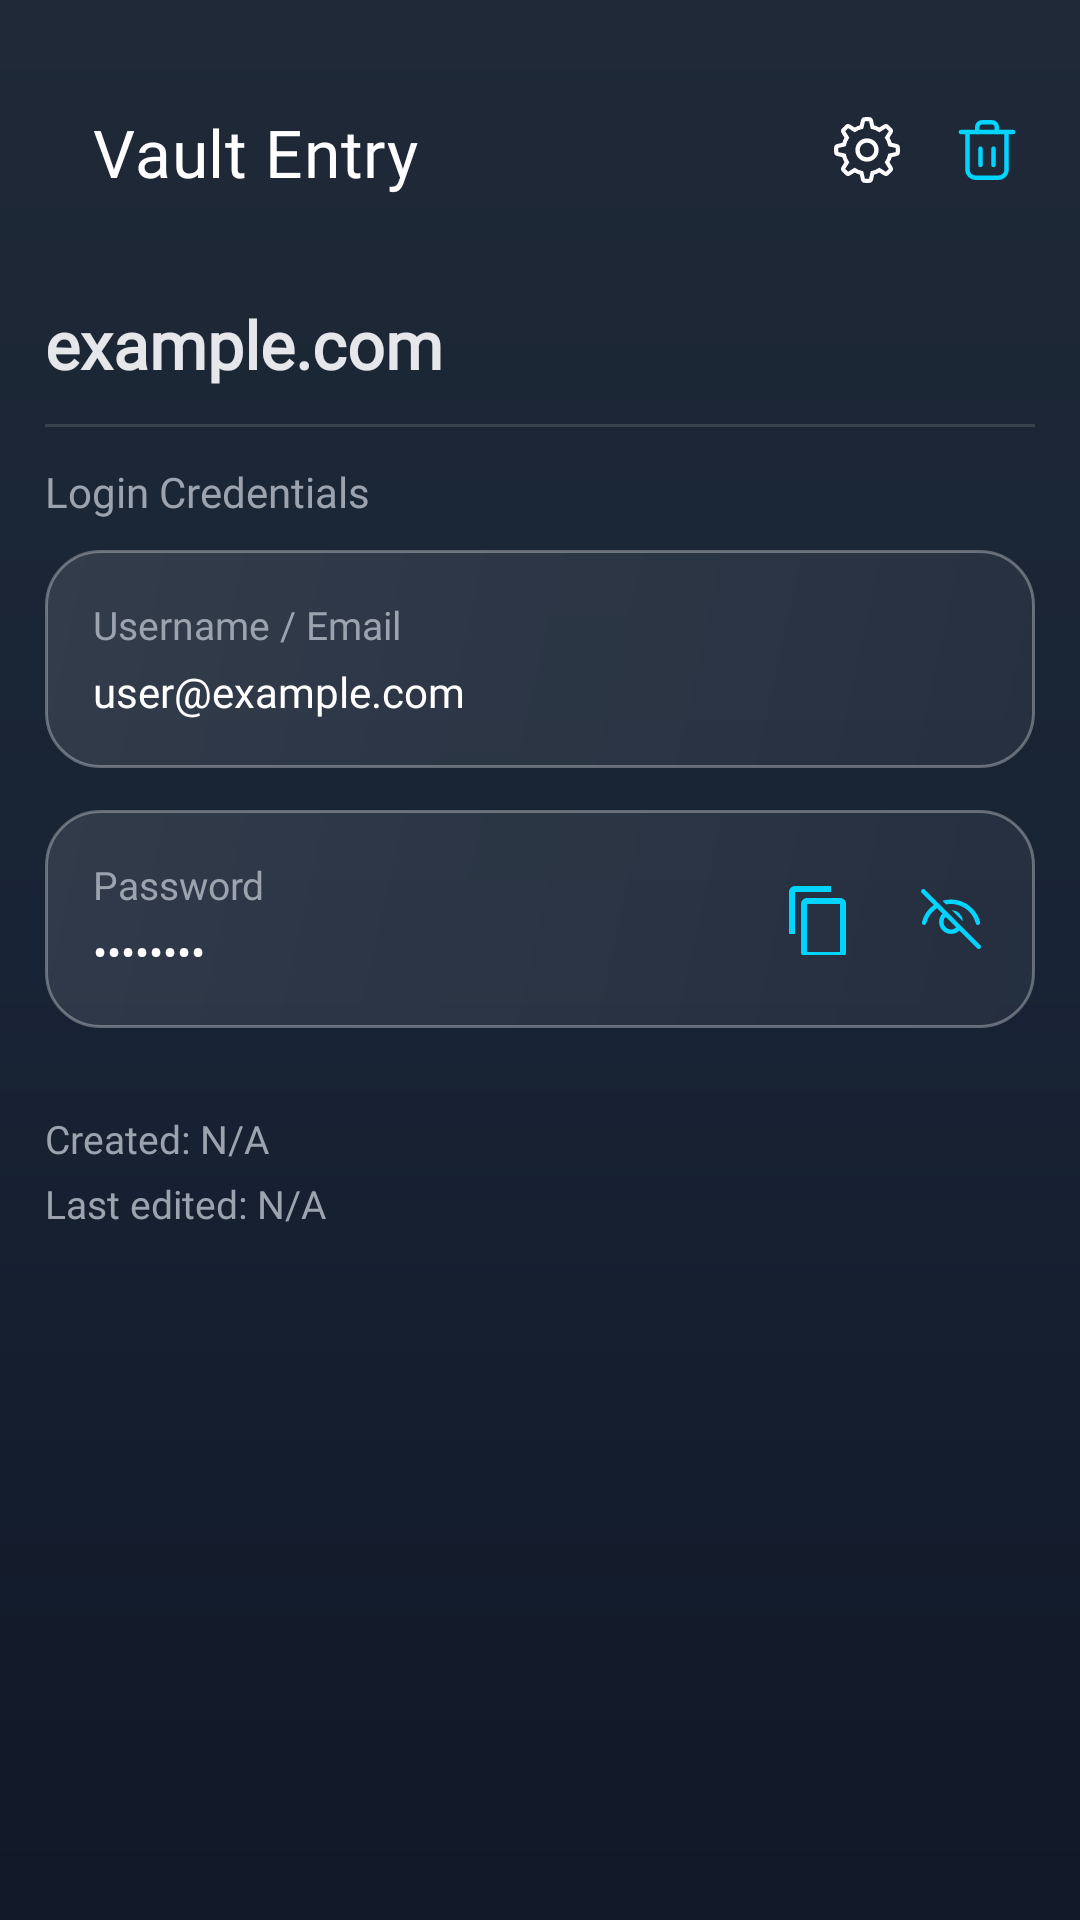

Icon click points for this 1080x1920 phone screenshot, format [x,y]:
Copy password: [817,920]
Delete entry: [987,150]
Reveal password: [951,919]
